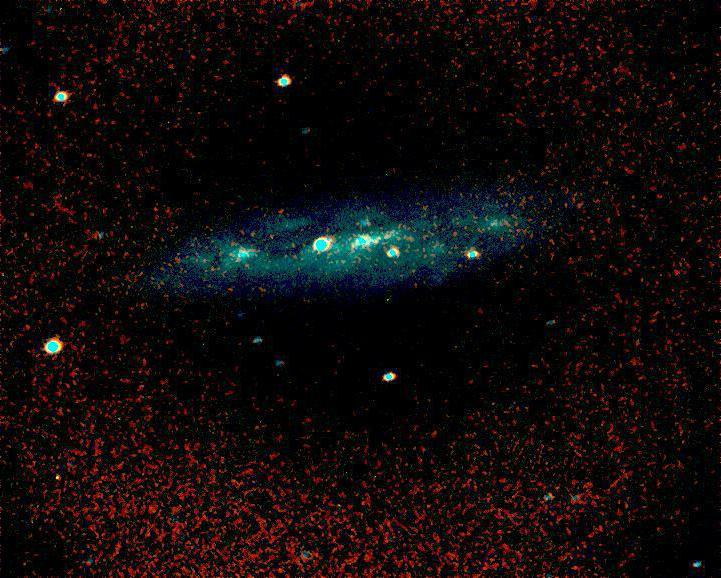star: (351, 221, 381, 251)
